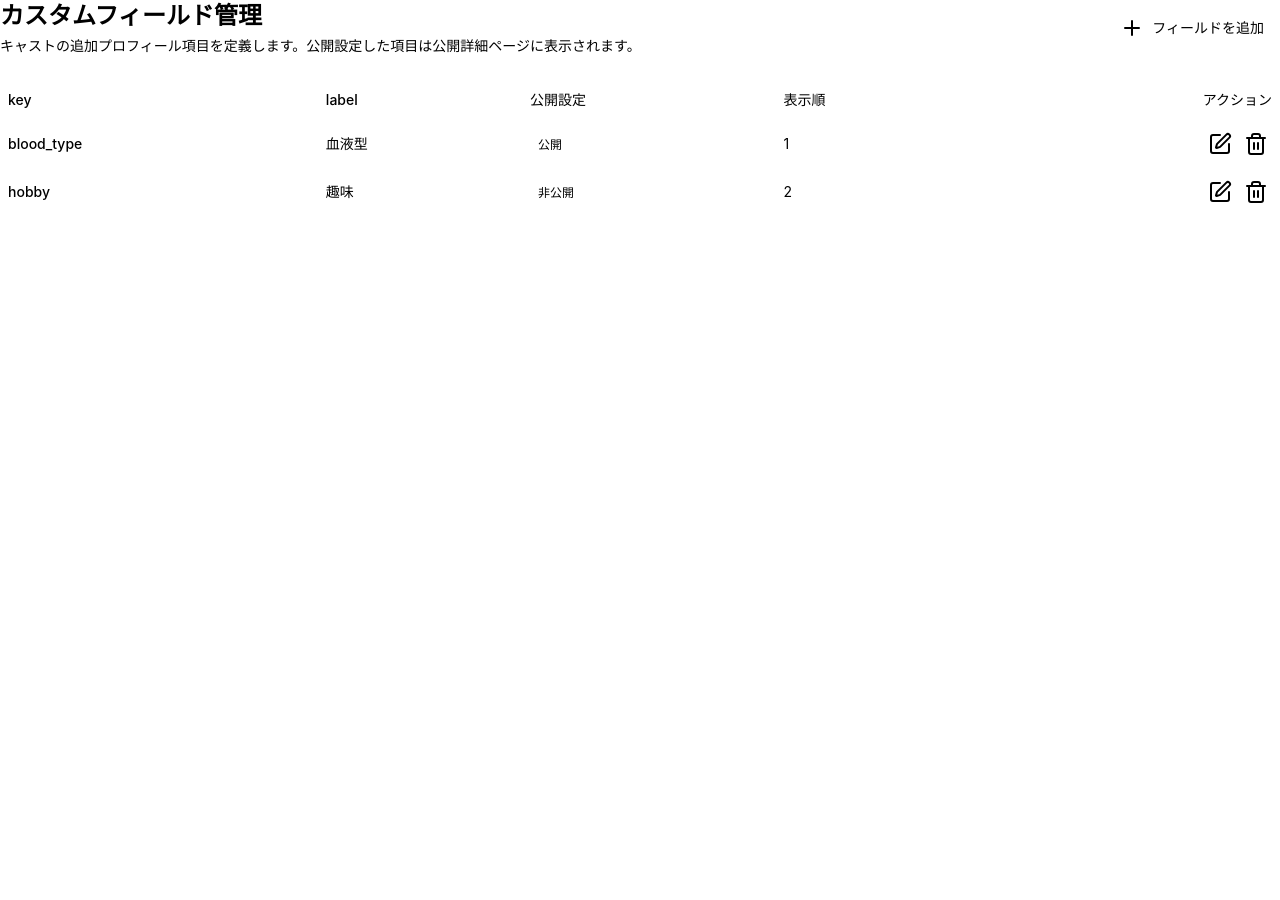
Test: カスタムフィールド定義の管理ページ › 削除は確認ダイアログを label 付きで出し、キャンセルされたら削除 API を呼ばない
Check: the text "blood_type" is shown, box [0,120,318,168]
Click the button named "削除" in the row of "blood_type".
click(1256, 144)  # box [1240,128,1272,160]
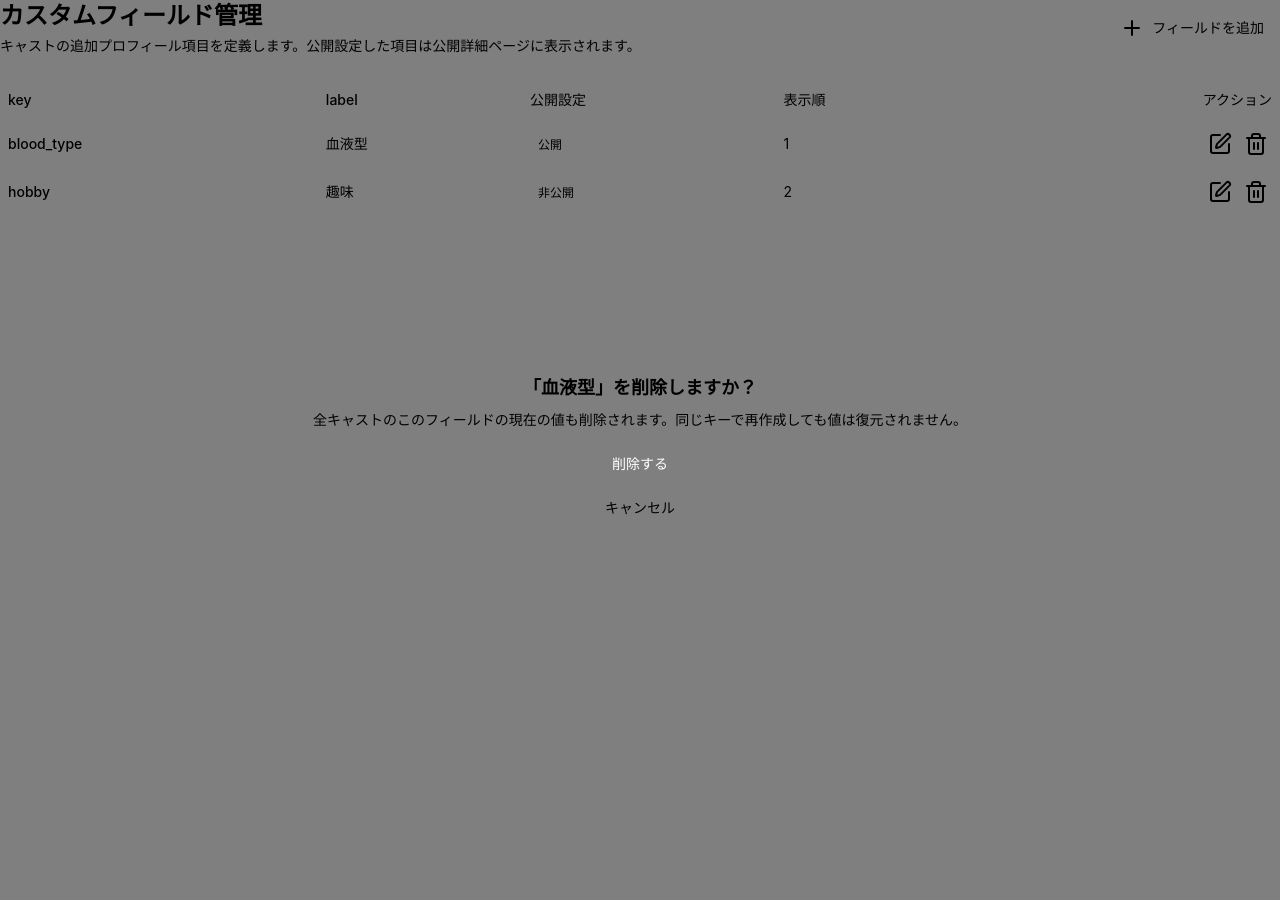
Check: the dialog shows "「血液型」を削除しますか？", box [523,377,757,398]
Click the button "キャンセル".
click(640, 508)  # box [40,490,1240,526]
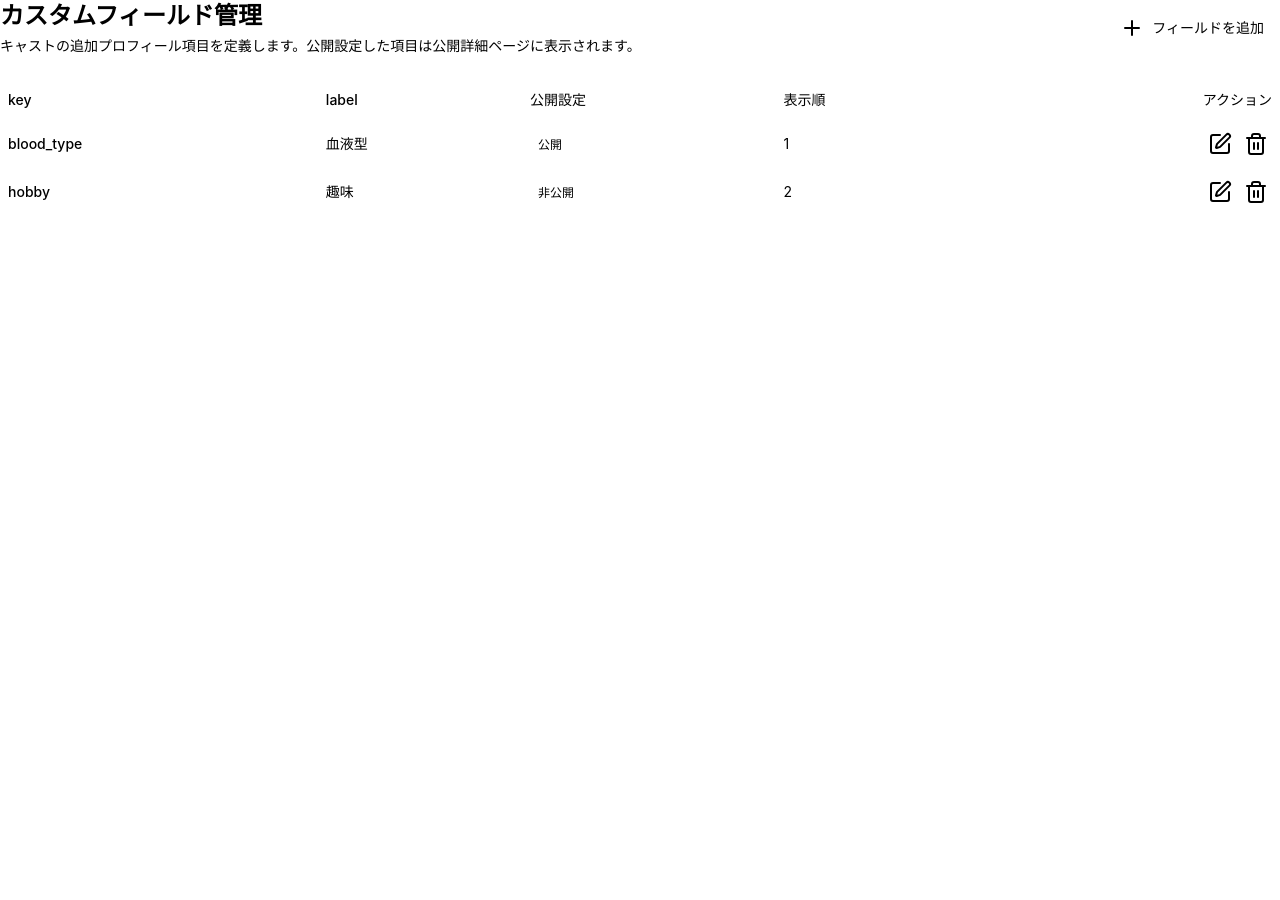
Check: the dialog is gone
